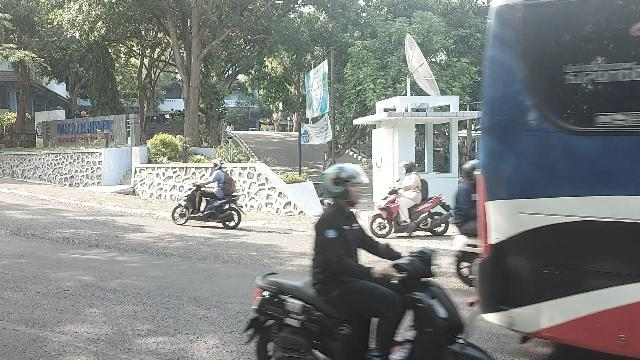helm: (322, 164, 370, 206), (401, 162, 418, 175), (213, 160, 225, 171)
motor: (243, 249, 496, 360), (371, 179, 455, 239), (173, 179, 247, 230)
